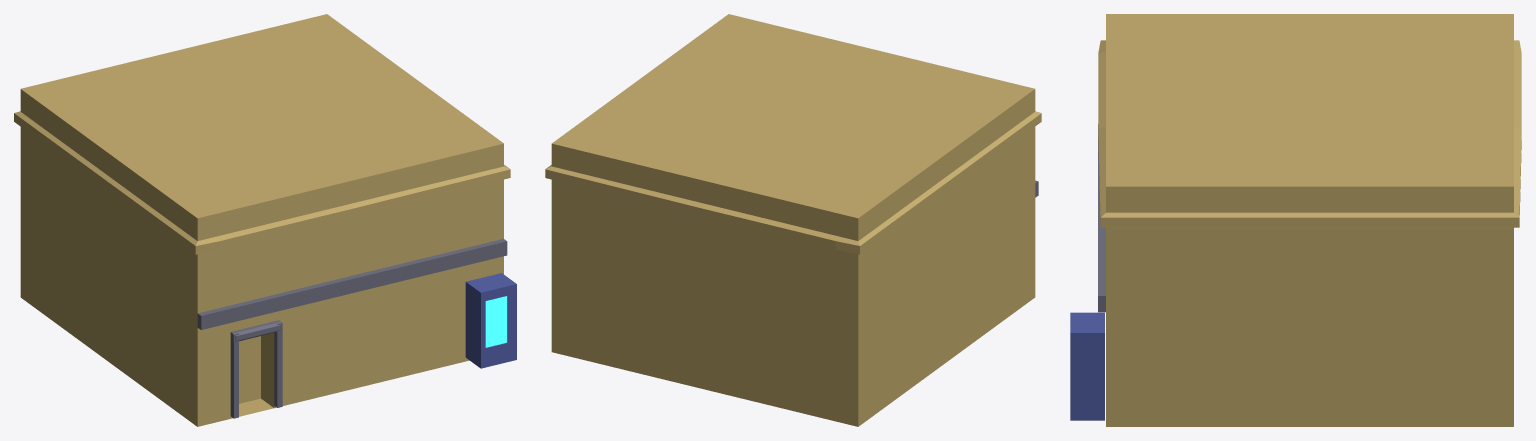
3 views of the same model, side by side, from view 1: azimuth 30°, elevation 25°; view 2: azimuth 150°, elevation 25°; view 3: azimuth 270°, elevation 25° (orthographic). The views are drawn at different scales.
Parts seen in each view (by area): view 1: Cube, Cube.006, Cube.007, Cube.008, Cube.004, Cube.005, Cube.002; view 2: Cube; view 3: Cube, Cube.007, Cube.006.
Boxes of the visible parts, <box> form: Cube: <box>14,14,510,426</box>; Cube.006: <box>197,239,507,329</box>; Cube.007: <box>465,273,516,368</box>; Cube.008: <box>485,296,507,347</box>; Cube.004: <box>230,333,238,418</box>; Cube.005: <box>274,322,282,407</box>; Cube.002: <box>230,320,281,342</box>; Cube: <box>545,14,1041,426</box>; Cube: <box>1098,14,1521,426</box>; Cube.007: <box>1070,312,1104,420</box>; Cube.006: <box>1098,124,1105,312</box>.
Size of what is drawn, in the model's own units: 12.8 by 8.1 by 13.79.
